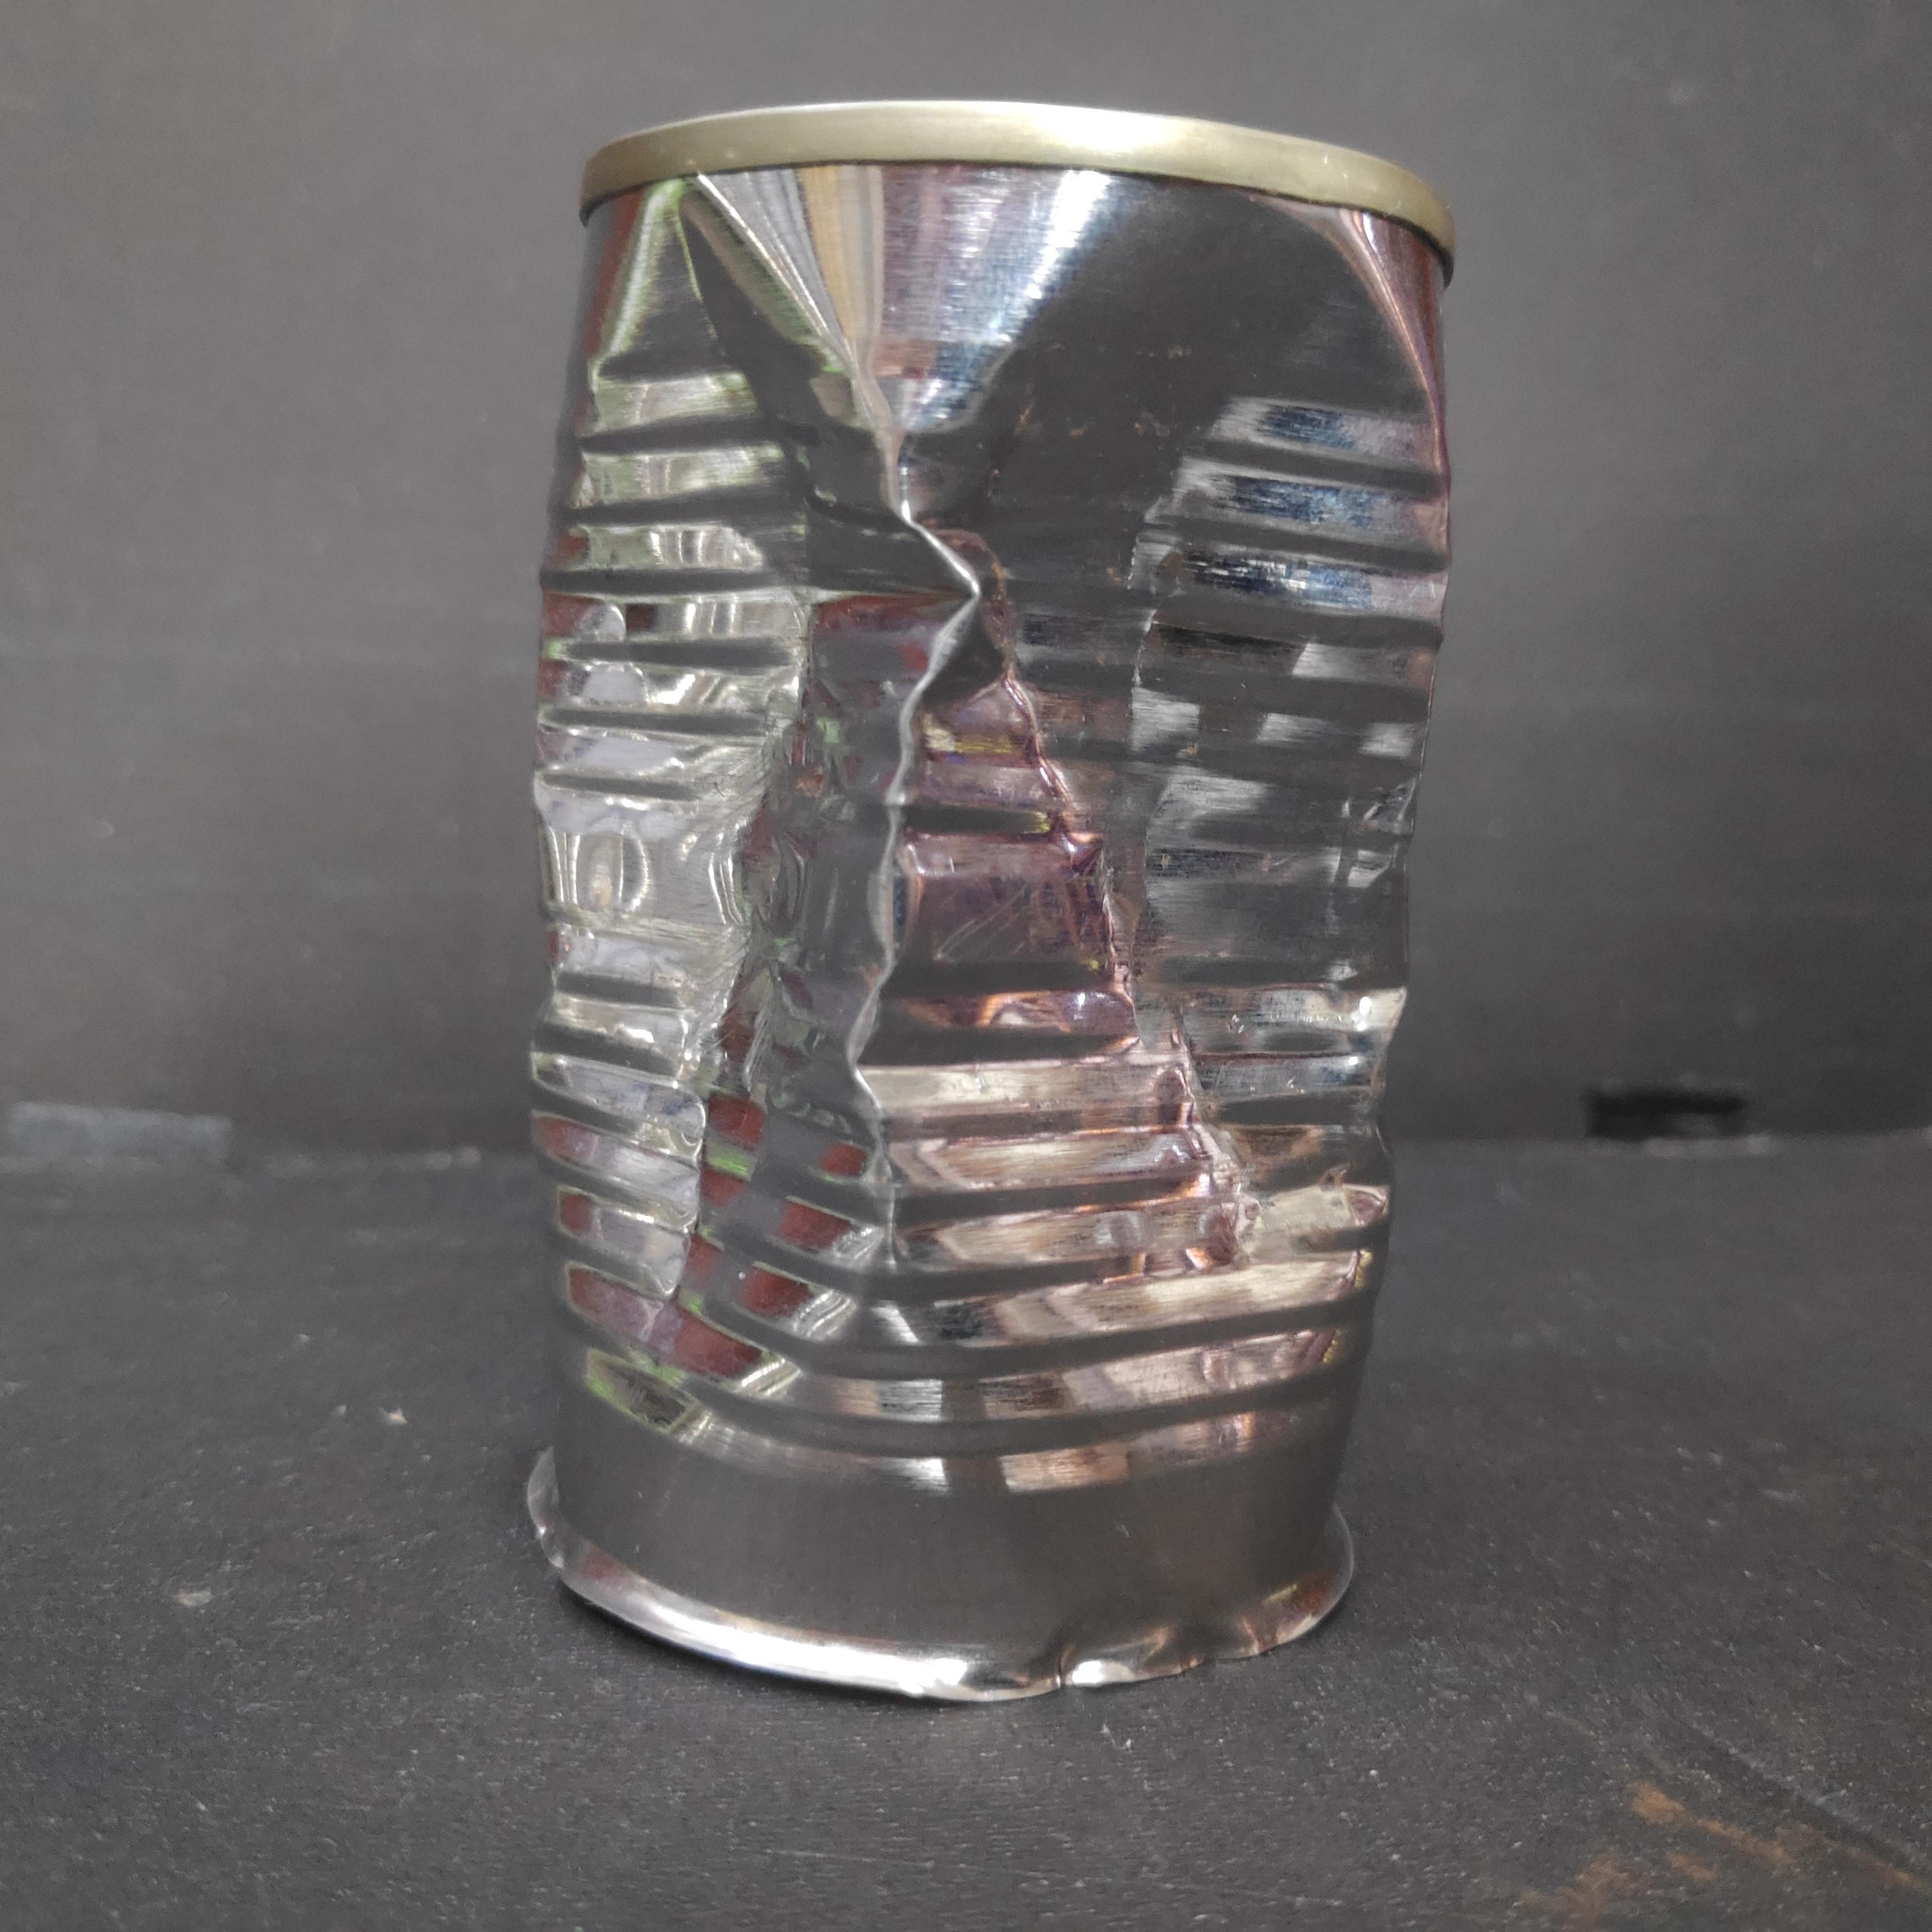Major Defect: (503, 84, 1473, 1724)
